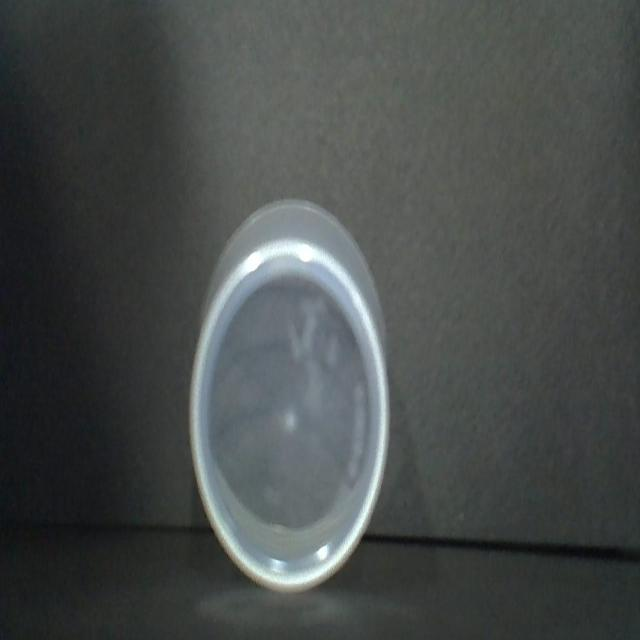cup: (183, 192, 397, 606)
